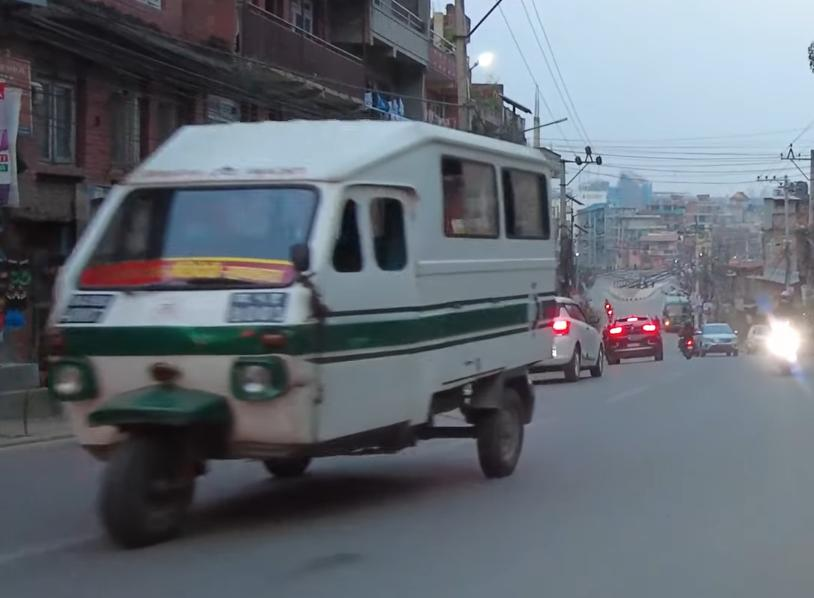car: (519, 290, 609, 383), (701, 319, 741, 361)
tempo: (36, 115, 567, 557)
